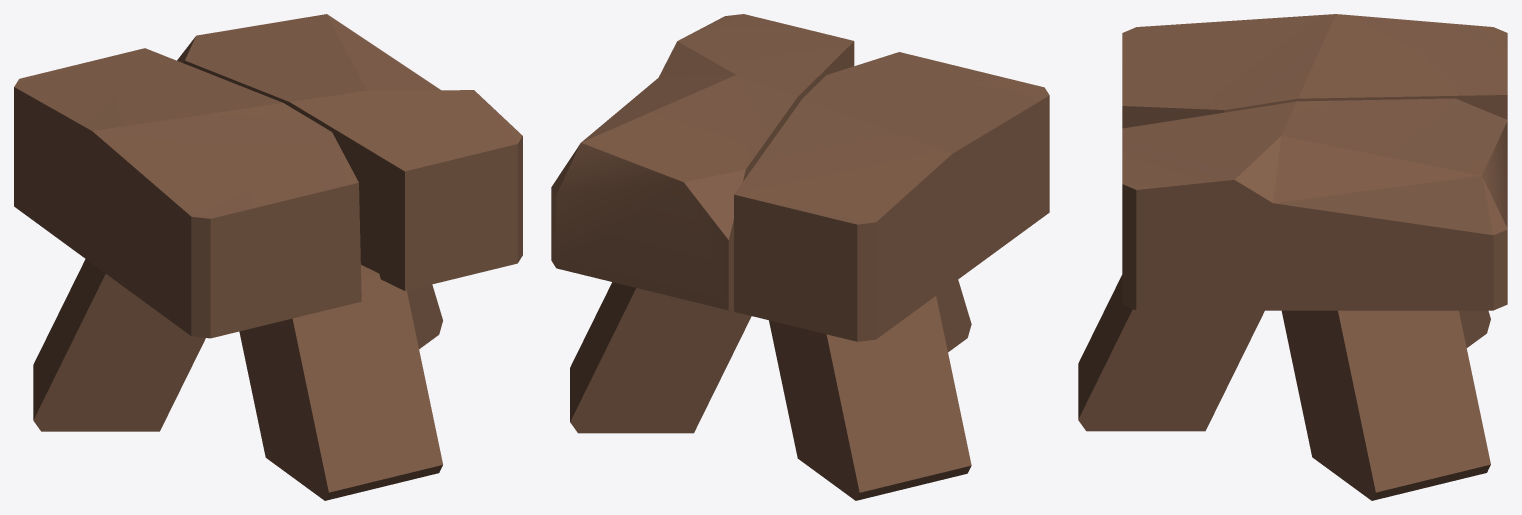
Rendered from Wooden_Stool.fbx.
The picture shows the model from 3 angles, left to right: view 1: azimuth 30°, elevation 25°; view 2: azimuth 150°, elevation 25°; view 3: azimuth 270°, elevation 25°; orthographic projection. The views are drawn at different scales.
Parts seen in each view (by area): view 1: 3-Stool; view 2: 3-Stool; view 3: 3-Stool.
Boxes of the visible parts, x1,y1,x2,y2 form: 3-Stool: (14,14,522,500); 3-Stool: (551,14,1049,500); 3-Stool: (1078,14,1507,500).
Bounding box in the file's own units: 0.502 × 0.4524 × 0.3576.
